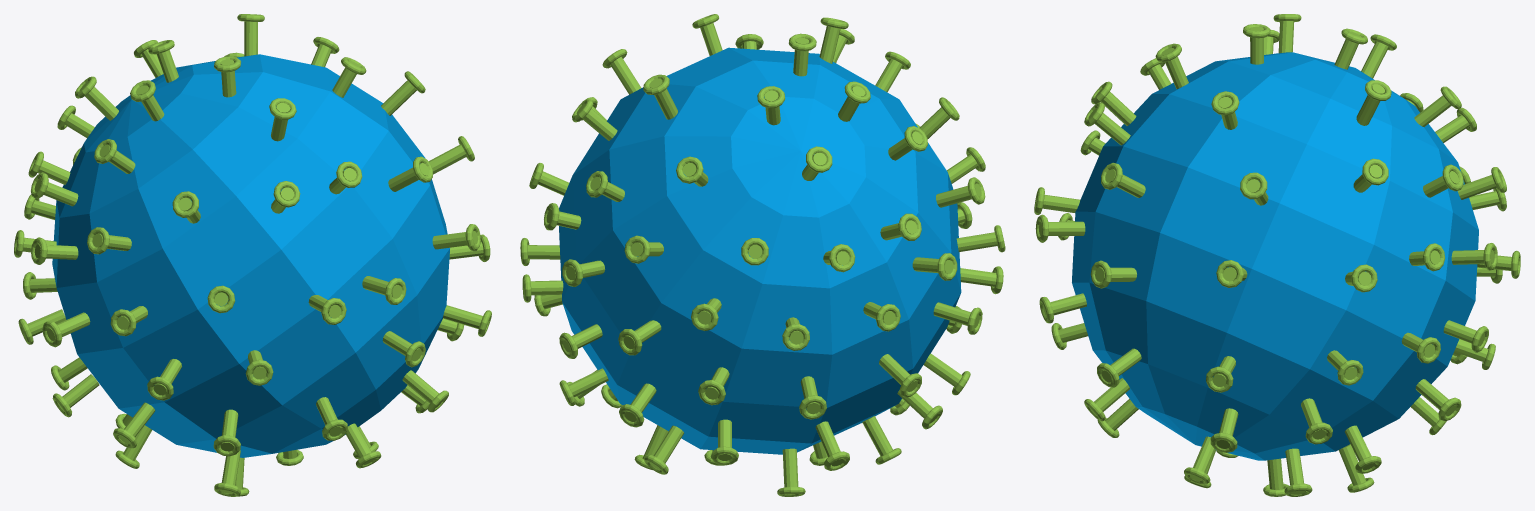
The model's file is virus2.glb.
3 views of the same model, side by side, from view 1: azimuth 30°, elevation 25°; view 2: azimuth 150°, elevation 25°; view 3: azimuth 270°, elevation 25° (orthographic).
Visible parts, largest first — view 1: group1637546415, group1419972821, group667962533, group1772713275, group1323126410, group578493139, group721235165, group1417404875, group1135978531, group616610192, group1938371169, group293761056 (+32 smaller); view 2: group1637546415, group904788383, group1419972821, group578493139, group1009221418, group2101280844, group1142733883, group2085189032, group141098286, group1135978531, group1989040135, group400133709 (+35 smaller); view 3: group1637546415, group130103664, group39439029, group1417404875, group141098286, group698154983, group721235165, group1938371169, group298856265, group116698468, group1560974964, group689996866 (+32 smaller).
Boxes of the visible parts, x1,y1,x2,y2 form: group1637546415: (52, 54, 449, 457); group1419972821: (42, 312, 90, 347); group667962533: (213, 409, 240, 456); group1772713275: (113, 402, 155, 448); group1323126410: (31, 172, 78, 206); group578493139: (87, 227, 131, 254); group721235165: (432, 224, 480, 250); group1417404875: (388, 156, 432, 191); group1135978531: (31, 237, 78, 264); group616610192: (147, 359, 181, 400); group1938371169: (362, 276, 406, 304); group293761056: (382, 331, 425, 367); group1637546415: (559, 47, 961, 454); group904788383: (815, 421, 849, 470); group1419972821: (933, 302, 982, 334); group578493139: (936, 177, 985, 207); group1009221418: (879, 354, 921, 397); group2101280844: (644, 425, 684, 474); group1142733883: (618, 320, 661, 355); group2085189032: (619, 383, 656, 427); group141098286: (643, 74, 677, 119); group1135978531: (912, 253, 957, 280); group1989040135: (799, 376, 826, 419); group400133709: (777, 448, 805, 496); group1637546415: (1072, 52, 1478, 460); group130103664: (1415, 379, 1461, 421); group39439029: (1301, 398, 1332, 444); group1417404875: (1101, 162, 1145, 197); group141098286: (1356, 80, 1391, 125); group698154983: (1097, 348, 1141, 387); group721235165: (1090, 260, 1136, 288); group1938371169: (1035, 214, 1085, 242); group298856265: (1344, 425, 1381, 473); group116698468: (1284, 448, 1312, 496); group1560974964: (1084, 102, 1130, 145); group689996866: (1210, 408, 1238, 452).
Size of the model in its own units: 0.6909 by 0.672 by 0.6868.
